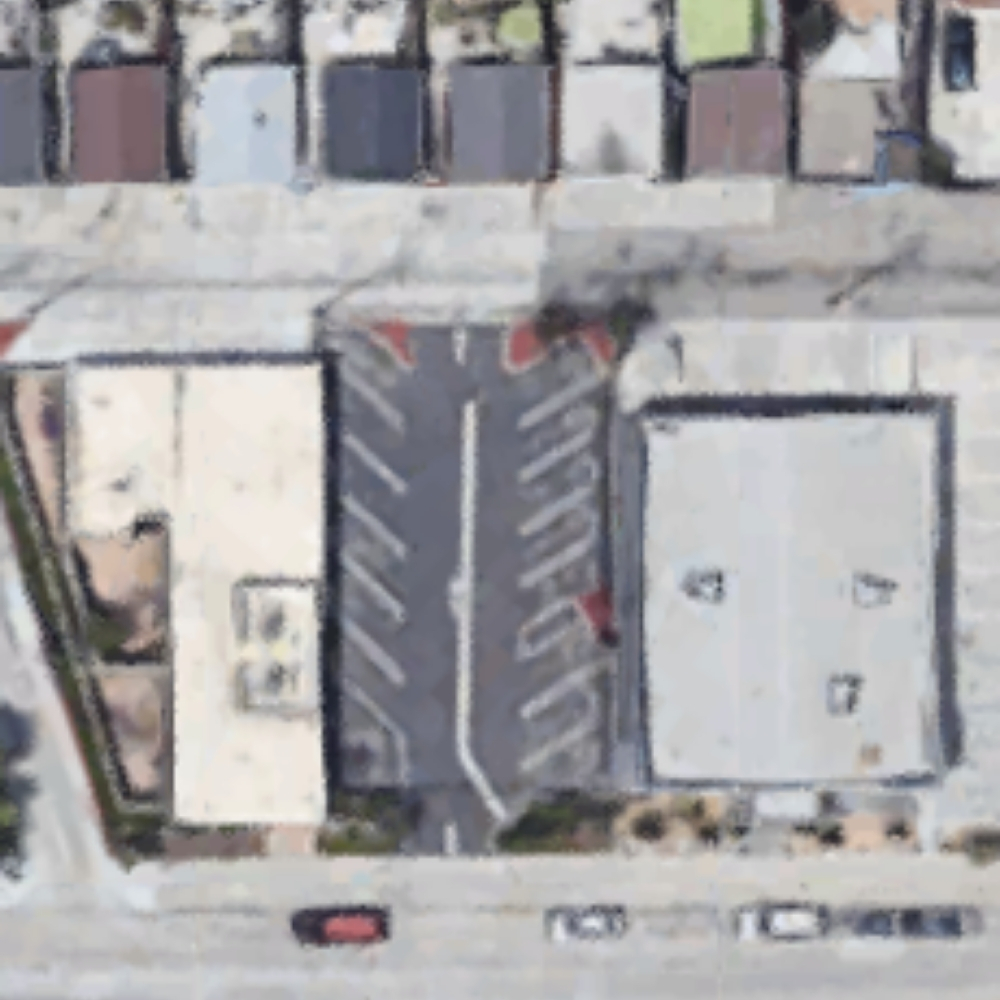parking: (320, 330, 615, 855)
